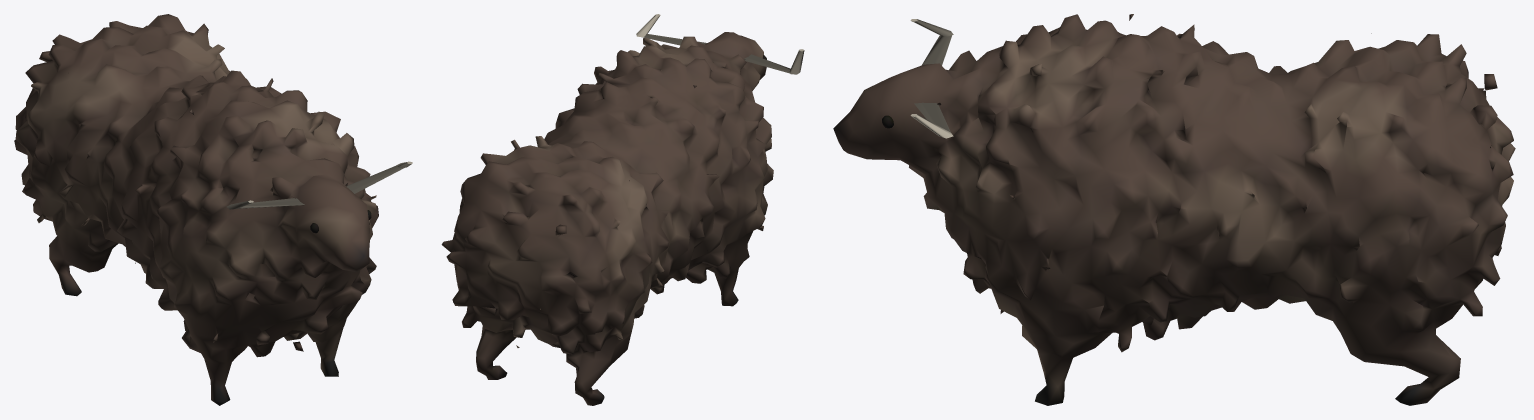
The model's file is moschusochse.glb.
The picture shows the model from 3 angles, left to right: view 1: azimuth 30°, elevation 25°; view 2: azimuth 150°, elevation 25°; view 3: azimuth 270°, elevation 25°; orthographic projection. The views are drawn at different scales.
Parts seen in each view (by area): view 1: lack; view 2: lack; view 3: lack.
Part boxes in pixels (box(x1,y1,x2,y2)): lack: box(14, 14, 412, 405); lack: box(441, 14, 804, 405); lack: box(833, 14, 1515, 405).
Size of the model in its own units: 1.12 by 1.44 by 2.65.
